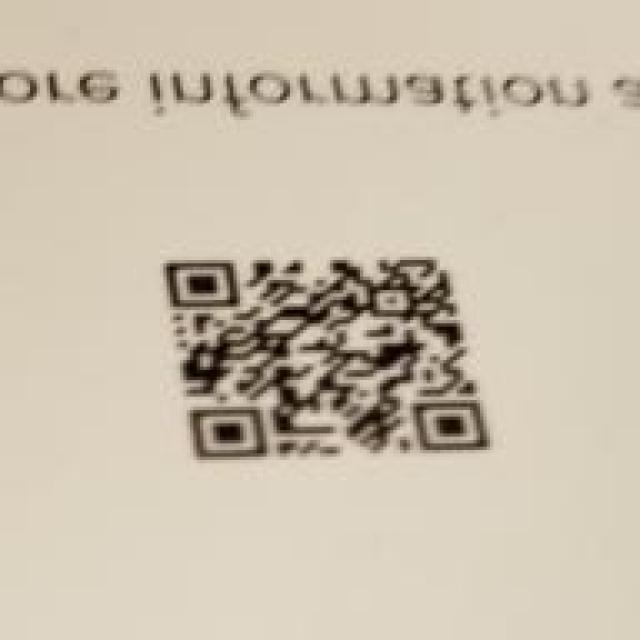QR_CODE: (137, 222, 515, 513)
